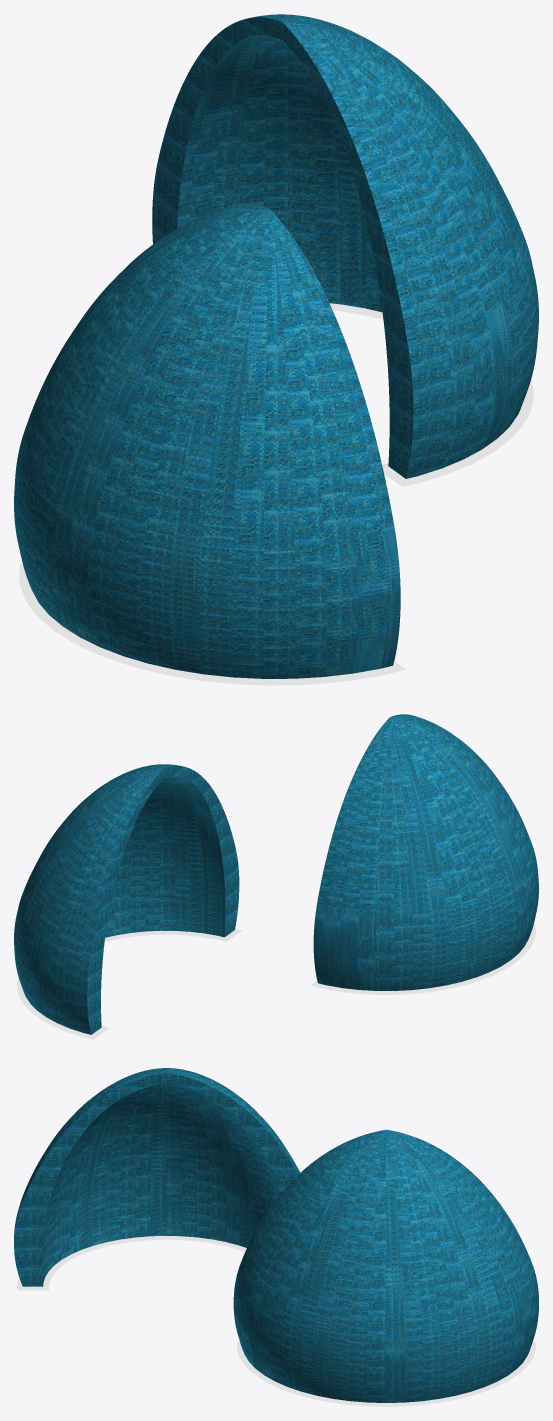
The picture shows the model from 3 angles, top to bottom: view 1: azimuth 30°, elevation 25°; view 2: azimuth 150°, elevation 25°; view 3: azimuth 270°, elevation 25°; orthographic projection. The views are drawn at different scales.
Parts seen in each view (by area): view 1: Mesh2 Model, Mesh1 Model, Mesh4 Model, Mesh3 Model; view 2: Mesh2 Model, Mesh1 Model, Mesh3 Model, Mesh4 Model; view 3: Mesh1 Model, Mesh2 Model, Mesh3 Model, Mesh4 Model.
Boxes of the visible parts, x1=… form: Mesh2 Model: x1=14, y1=204, x2=400, y2=678; Mesh1 Model: x1=152, y1=14, x2=538, y2=478; Mesh4 Model: x1=19, y1=560, x2=405, y2=685; Mesh3 Model: x1=329, y1=303, x2=533, y2=486; Mesh2 Model: x1=313, y1=714, x2=538, y2=990; Mesh1 Model: x1=14, y1=764, x2=239, y2=1034; Mesh3 Model: x1=17, y1=928, x2=242, y2=1039; Mesh4 Model: x1=311, y1=922, x2=535, y2=994; Mesh1 Model: x1=233, y1=1129, x2=538, y2=1402; Mesh2 Model: x1=14, y1=1068, x2=299, y2=1286; Mesh3 Model: x1=237, y1=1342, x2=535, y2=1406; Mesh4 Model: x1=17, y1=1236, x2=246, y2=1290.
Size of the model in its own units: 73.26 by 40.27 by 88.86.
2 materials, 1 textured.
